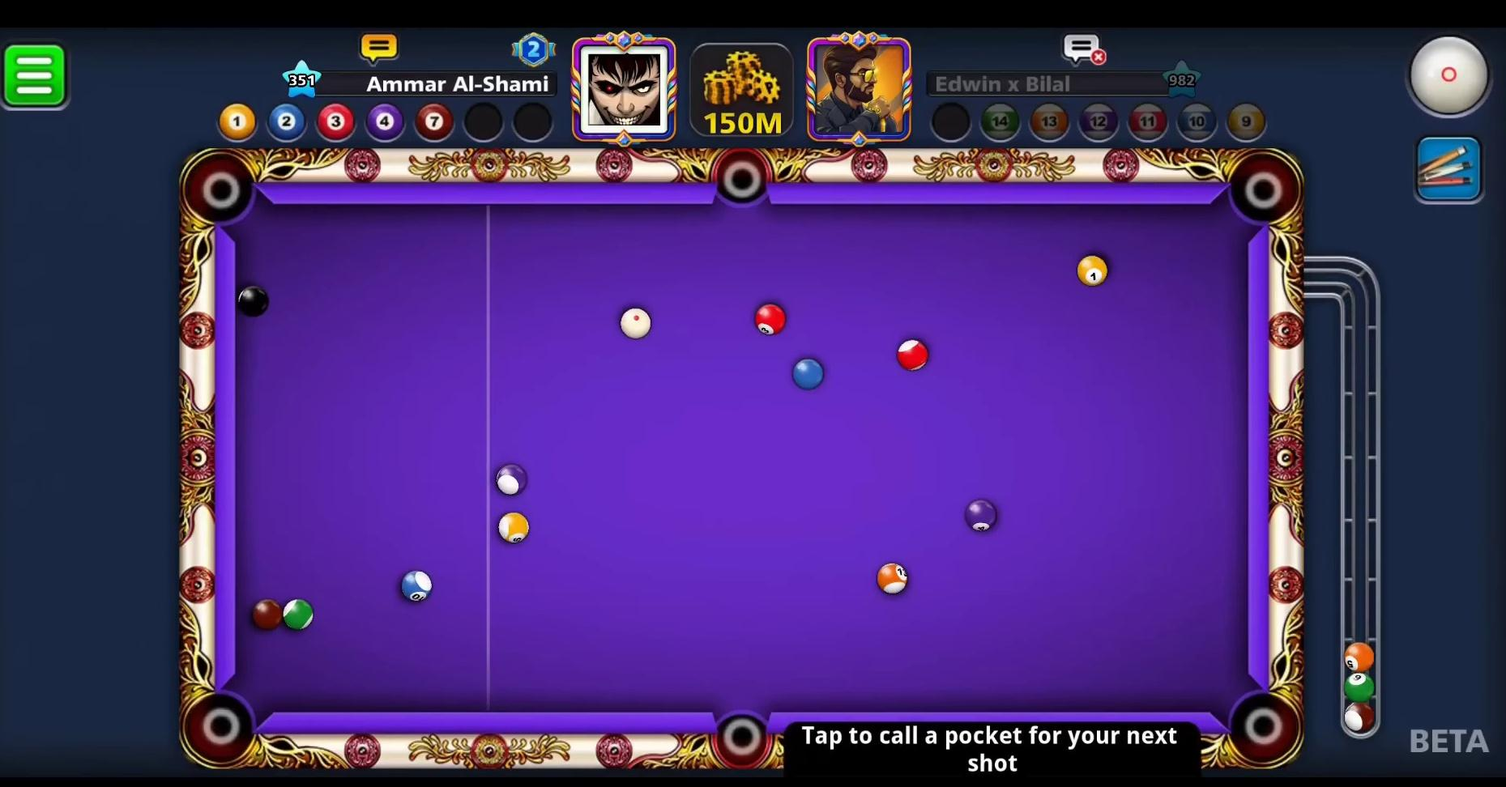Ball: (489, 502, 539, 553), (393, 562, 442, 612), (225, 282, 279, 322), (871, 551, 912, 602), (488, 457, 536, 500), (244, 591, 289, 636), (959, 495, 1002, 540), (1070, 252, 1117, 291), (894, 336, 934, 373), (751, 302, 790, 335), (791, 355, 826, 391)
Hole: (176, 138, 268, 232), (176, 687, 265, 772), (1221, 686, 1305, 774), (1223, 140, 1303, 232), (702, 143, 781, 222), (706, 698, 774, 774)
Play_Area: (233, 204, 1244, 715)
Spin: (1402, 28, 1504, 130)
White: (608, 303, 659, 344)
